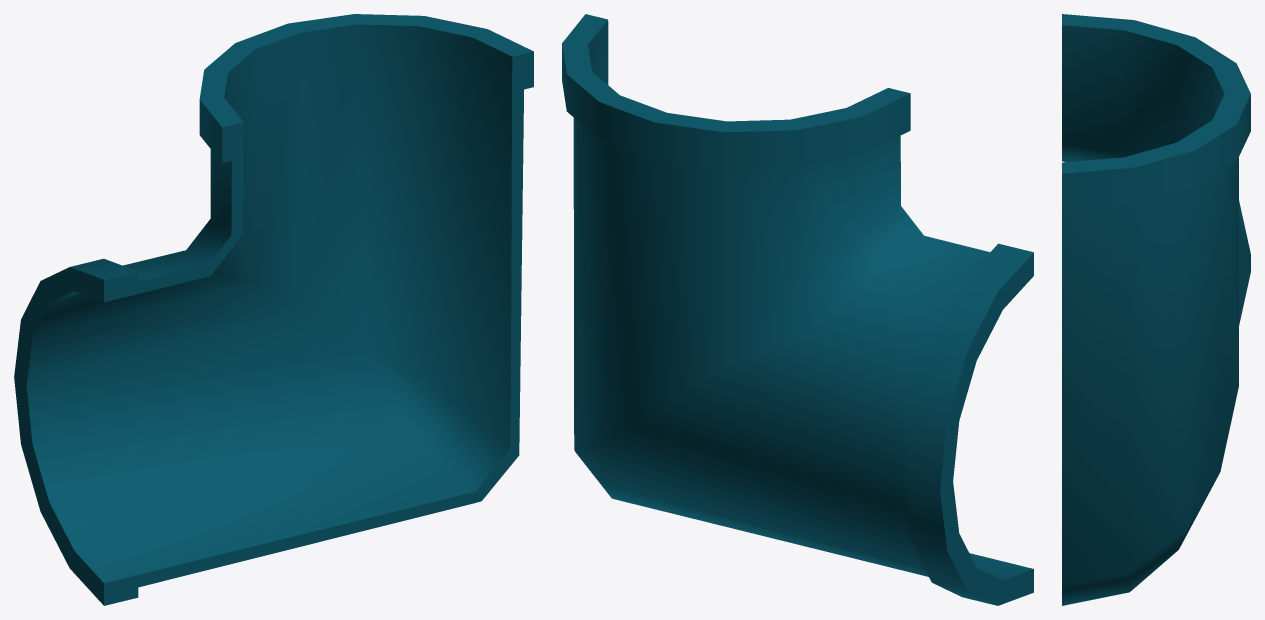
Rendered from Modulo4_L_Blockout.FBX.
3 views of the same model, side by side, from view 1: azimuth 30°, elevation 25°; view 2: azimuth 150°, elevation 25°; view 3: azimuth 270°, elevation 25° (orthographic). The views are drawn at different scales.
Visible parts, largest first — view 1: Tubo_Modulo4_L; view 2: Tubo_Modulo4_L; view 3: Tubo_Modulo4_L.
Boxes of the visible parts, box(x1,y1,x2,y2) form: Tubo_Modulo4_L: box(14, 14, 533, 605); Tubo_Modulo4_L: box(562, 14, 1033, 605); Tubo_Modulo4_L: box(1062, 14, 1250, 605).
Bounding box in the file's own units: 142 × 142 × 51.47.
